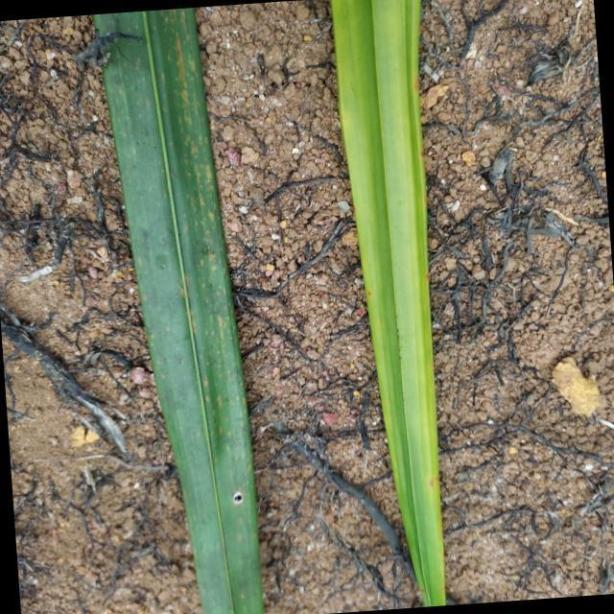nitrogen: (88, 0, 261, 614), (329, 0, 458, 614)
